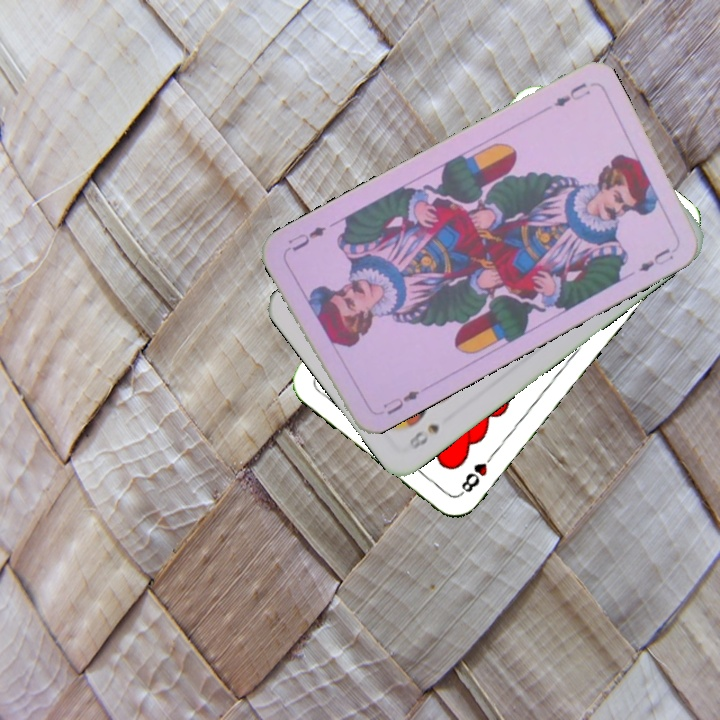EU: (378, 386, 423, 418), (550, 78, 593, 110)
H8: (456, 448, 498, 498)
S8: (405, 419, 443, 452)
